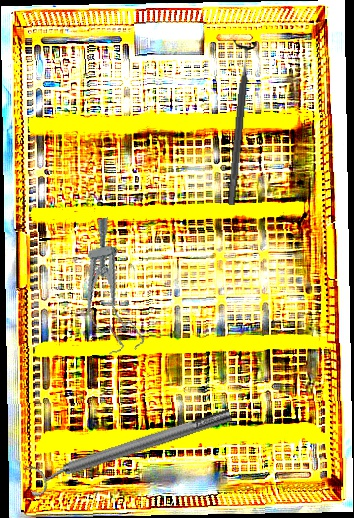Fixation Ring: (22, 399, 237, 499), (217, 40, 259, 206)
Speculum: (69, 215, 146, 358)
